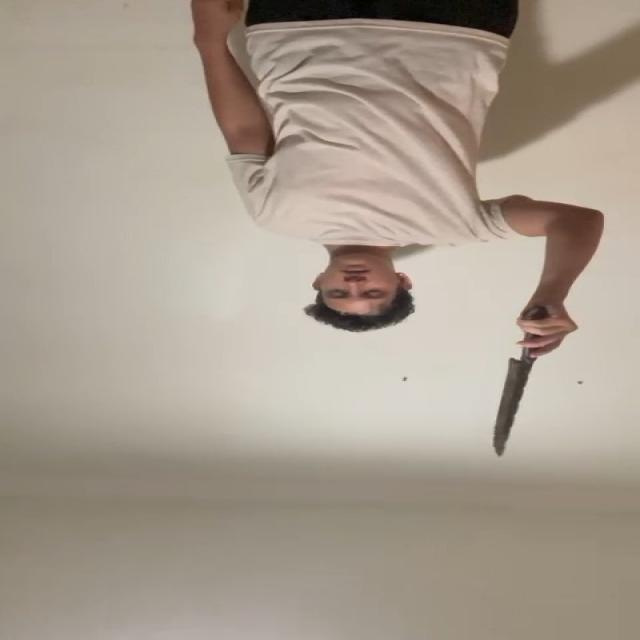knife: (490, 361, 532, 457)
